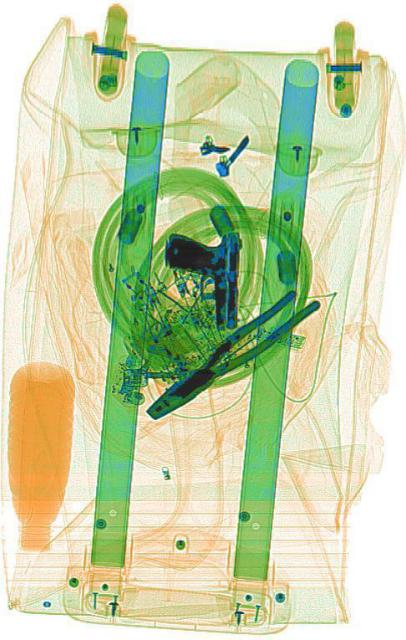Gun: (162, 231, 238, 331)
Pliers: (141, 276, 319, 432)
